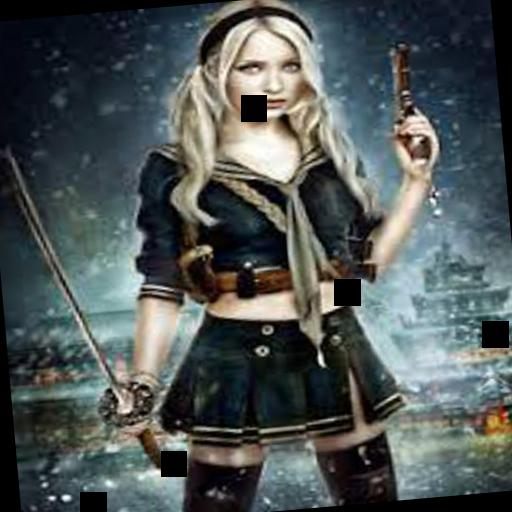Handgun: (381, 38, 436, 158)
